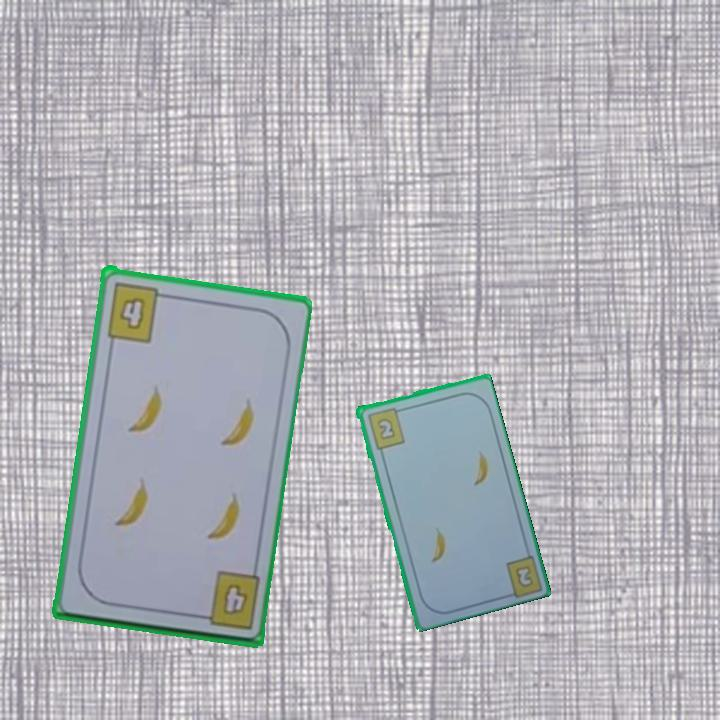2b: (363, 404, 407, 452), (511, 562, 536, 590)
4b: (103, 278, 172, 344), (218, 579, 250, 618)
